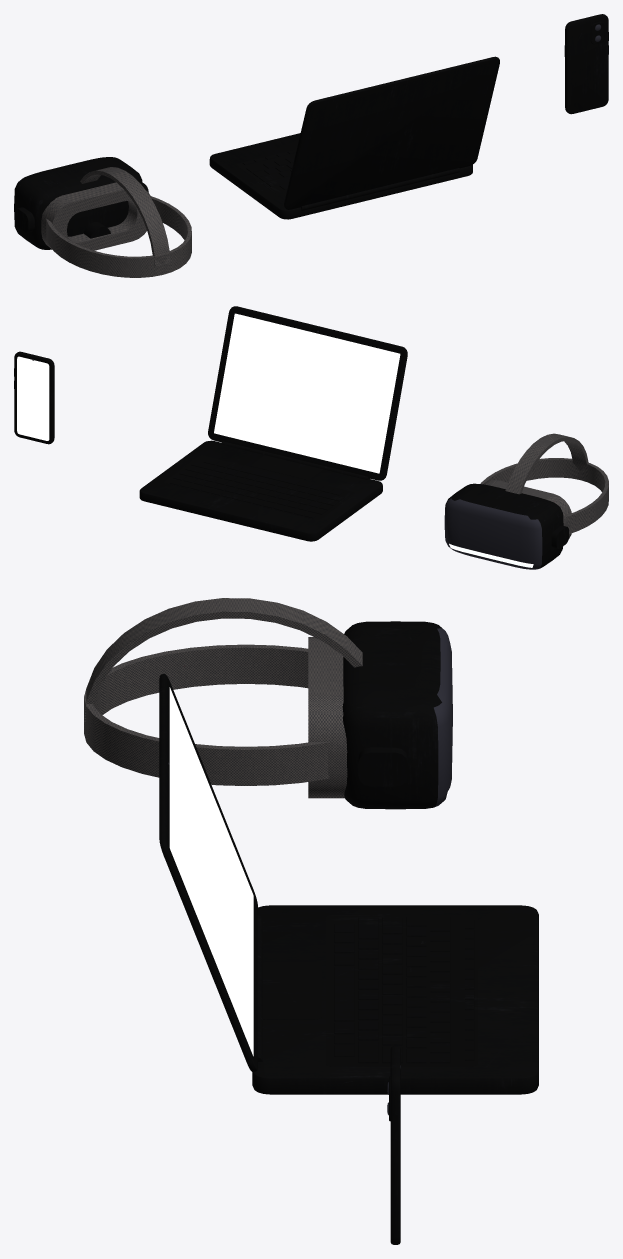
File: devices.glb
The picture shows the model from 3 angles, top to bottom: view 1: azimuth 30°, elevation 25°; view 2: azimuth 150°, elevation 25°; view 3: azimuth 270°, elevation 25°; orthographic projection. The views are drawn at different scales.
Parts seen in each view (by area): view 1: Laptop_Lid, Headset, Laptop, Phone; view 2: Laptop_Lid, Laptop, Headset, Phone; view 3: Laptop, Headset, Laptop_Lid, Phone.
Boxes of the visible parts, bbox=[...] form: Laptop_Lid: bbox=[284, 56, 499, 210]; Headset: bbox=[14, 157, 191, 277]; Laptop: bbox=[209, 133, 472, 219]; Phone: bbox=[564, 14, 608, 114]; Laptop_Lid: bbox=[208, 306, 407, 480]; Laptop: bbox=[139, 440, 382, 541]; Headset: bbox=[444, 433, 608, 569]; Phone: bbox=[14, 351, 54, 444]; Laptop: bbox=[252, 905, 538, 1094]; Headset: bbox=[84, 598, 452, 809]; Laptop_Lid: bbox=[159, 674, 262, 1072]; Phone: bbox=[387, 1046, 400, 1244].
Size of the model in its own units: 1.01 by 0.2239 by 0.365.
Materials: 5 (3 with a texture image).
